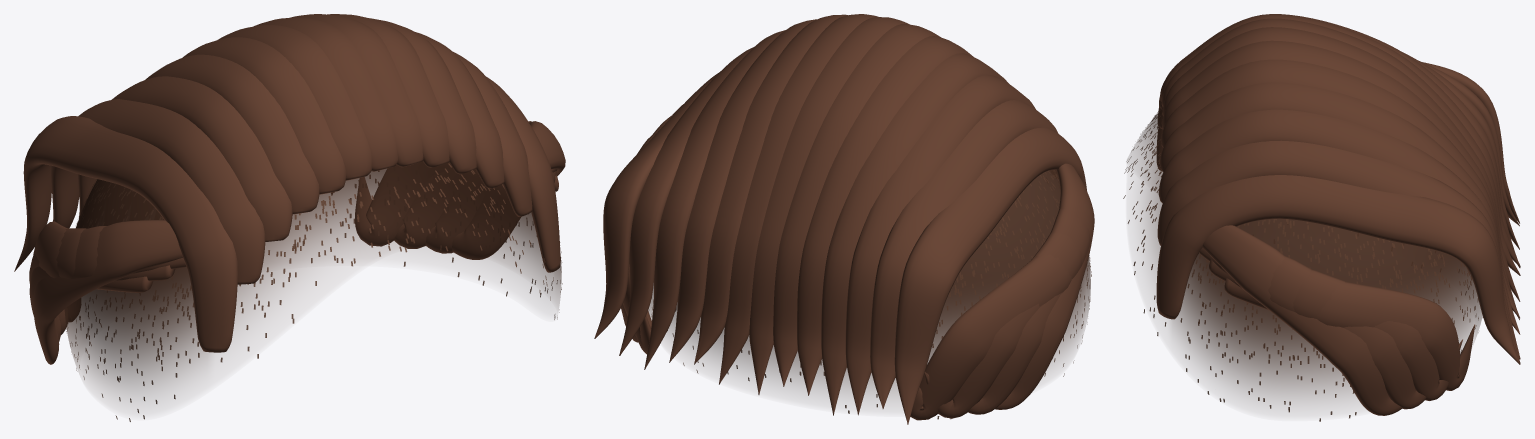
Rendered from Masculine-flow-hair.glb.
3 renders of one model, left to right at view 1: azimuth 30°, elevation 25°; view 2: azimuth 150°, elevation 25°; view 3: azimuth 270°, elevation 25°, orthographic. The views are drawn at different scales.
Parts seen in each view (by area): view 1: 226 hair / Hair / chestnut226, 226 hair / Hair / neutral coverage235, 226 hair / Hair / cut grain235; view 2: 226 hair / Hair / chestnut226, 226 hair / Hair / neutral coverage235, 226 hair / Hair / cut grain235; view 3: 226 hair / Hair / chestnut226, 226 hair / Hair / neutral coverage235, 226 hair / Hair / cut grain235.
Part boxes in pixels (x1,y1,x2,y2): 226 hair / Hair / chestnut226: (14, 14, 565, 364); 226 hair / Hair / neutral coverage235: (64, 161, 561, 401); 226 hair / Hair / cut grain235: (64, 163, 562, 421); 226 hair / Hair / chestnut226: (594, 14, 1094, 424); 226 hair / Hair / neutral coverage235: (648, 170, 1090, 401); 226 hair / Hair / cut grain235: (649, 170, 1091, 419); 226 hair / Hair / chestnut226: (1156, 14, 1520, 415); 226 hair / Hair / neutral coverage235: (1128, 108, 1482, 405); 226 hair / Hair / cut grain235: (1123, 107, 1483, 421).
Bounding box in the file's own units: 1.07 × 0.7087 × 0.8387.
